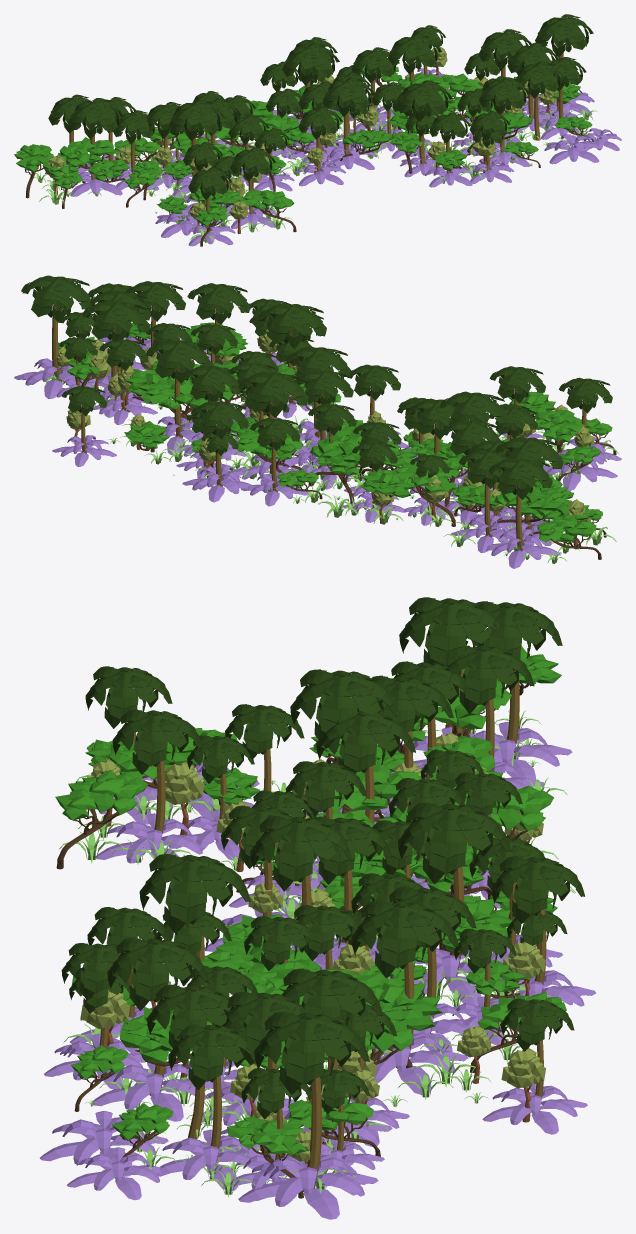
Rendered from jungle_3.dae.
3 renders of one model, top to bottom at view 1: azimuth 30°, elevation 25°; view 2: azimuth 150°, elevation 25°; view 3: azimuth 270°, elevation 25°, orthographic. The views are drawn at different scales.
Visible parts, largest first — view 1: tree1.280, tree1.293, tree1.272, tree1.254, tree1.266, tree1.259, tree1.251, tree1.289, tree1.284, tree1.295, tree1.249, tree2.351 (+64 smaller); view 2: tree1.293, tree1.272, tree1.251, tree1.280, tree1.253, tree1.295, tree1.284, tree1.270, tree1.259, tree1.266, tree1.262, tree1.249 (+61 smaller); view 3: tree1.293, tree1.272, tree1.280, tree1.251, tree1.266, tree1.254, tree1.259, tree1.284, tree1.278, tree1.258, tree1.270, tree1.290 (+78 smaller).
Boxes of the visible parts, box(x1,y1,x2,y2) form: tree1.280: box(396, 80, 452, 164); tree1.293: box(535, 14, 593, 58); tree1.272: box(282, 43, 339, 126); tree1.254: box(68, 98, 123, 179); tree1.266: box(323, 77, 375, 154); tree1.259: box(169, 99, 224, 177); tree1.251: box(388, 34, 441, 81); tree1.289: box(516, 61, 564, 140); tree1.284: box(479, 77, 530, 152); tree1.295: box(478, 29, 531, 107); tree1.249: box(351, 47, 399, 108); tree2.351: box(59, 137, 115, 168); tree1.293: box(21, 275, 92, 381); tree1.272: box(238, 371, 308, 473); tree1.251: box(146, 339, 212, 438); tree1.280: box(258, 303, 326, 404); tree1.253: box(488, 458, 552, 551); tree1.295: box(82, 300, 149, 377); tree1.284: box(187, 283, 250, 357); tree1.270: box(190, 400, 248, 486); tree1.259: box(440, 391, 507, 431); tree1.266: box(286, 346, 350, 437); tree1.262: box(459, 449, 510, 537); tree1.249: box(182, 365, 239, 401); tree1.293: box(254, 1011, 369, 1191); tree1.272: box(398, 802, 511, 979); tree1.280: box(139, 854, 250, 986); tree1.251: box(351, 900, 458, 1068); tree1.266: box(250, 816, 354, 939); tree1.254: box(399, 597, 494, 735); tree1.259: box(290, 669, 397, 813); tree1.284: box(107, 937, 208, 1095); tree1.278: box(112, 709, 202, 840); tree1.258: box(316, 711, 415, 823); tree1.270: box(491, 856, 584, 988); tree1.290: box(168, 1024, 256, 1165).
Size of the model in its own units: 15.71 by 7.15 by 2.45.
